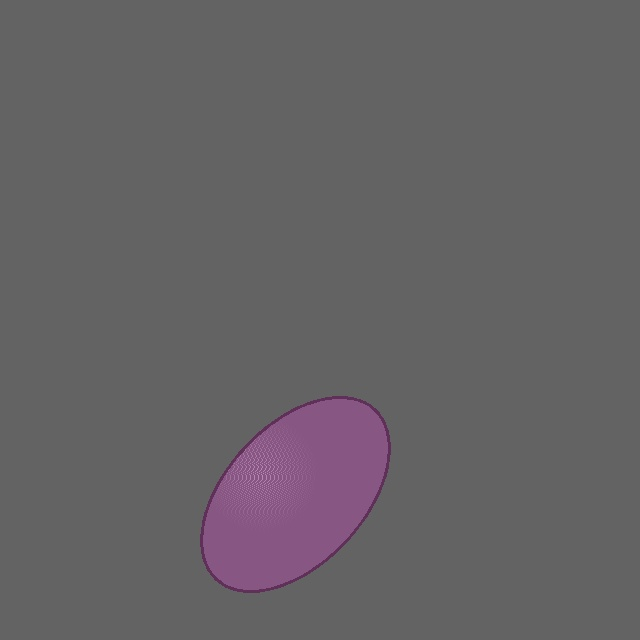lens: (201, 397, 389, 591)
